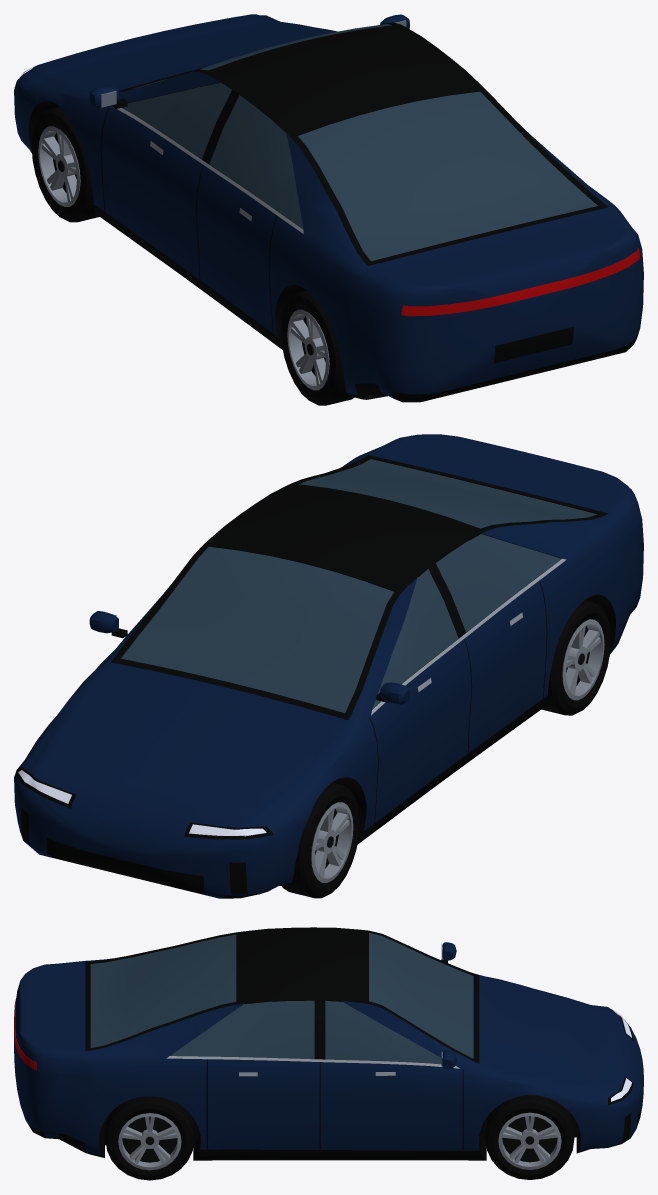
Rendered from CityCar.obj.
The picture shows the model from 3 angles, top to bottom: view 1: azimuth 30°, elevation 25°; view 2: azimuth 150°, elevation 25°; view 3: azimuth 270°, elevation 25°; orthographic projection. The views are drawn at different scales.
Visible parts, largest first — view 1: Body, Glass, Wheel_RL, Wheel_FL, Taillights; view 2: Body, Glass, Wheel_FL, Wheel_RL, Headlights; view 3: Body, Glass, Wheel_FR, Wheel_RR.
Boxes of the visible parts, <box> form: Body: <box>14,14,643,402</box>; Glass: <box>122,24,597,261</box>; Wheel_RL: <box>280,290,354,405</box>; Wheel_FL: <box>31,106,99,222</box>; Taillights: <box>401,248,640,316</box>; Body: <box>14,434,643,898</box>; Glass: <box>121,459,596,712</box>; Wheel_FL: <box>282,782,359,898</box>; Wheel_RL: <box>541,600,611,715</box>; Headlights: <box>18,770,266,835</box>; Body: <box>14,927,643,1160</box>; Glass: <box>90,932,473,1064</box>; Wheel_FR: <box>485,1095,574,1179</box>; Wheel_RR: <box>105,1096,194,1180</box>.
Size of the model in its own units: 7.43 by 5.16 by 16.96.
